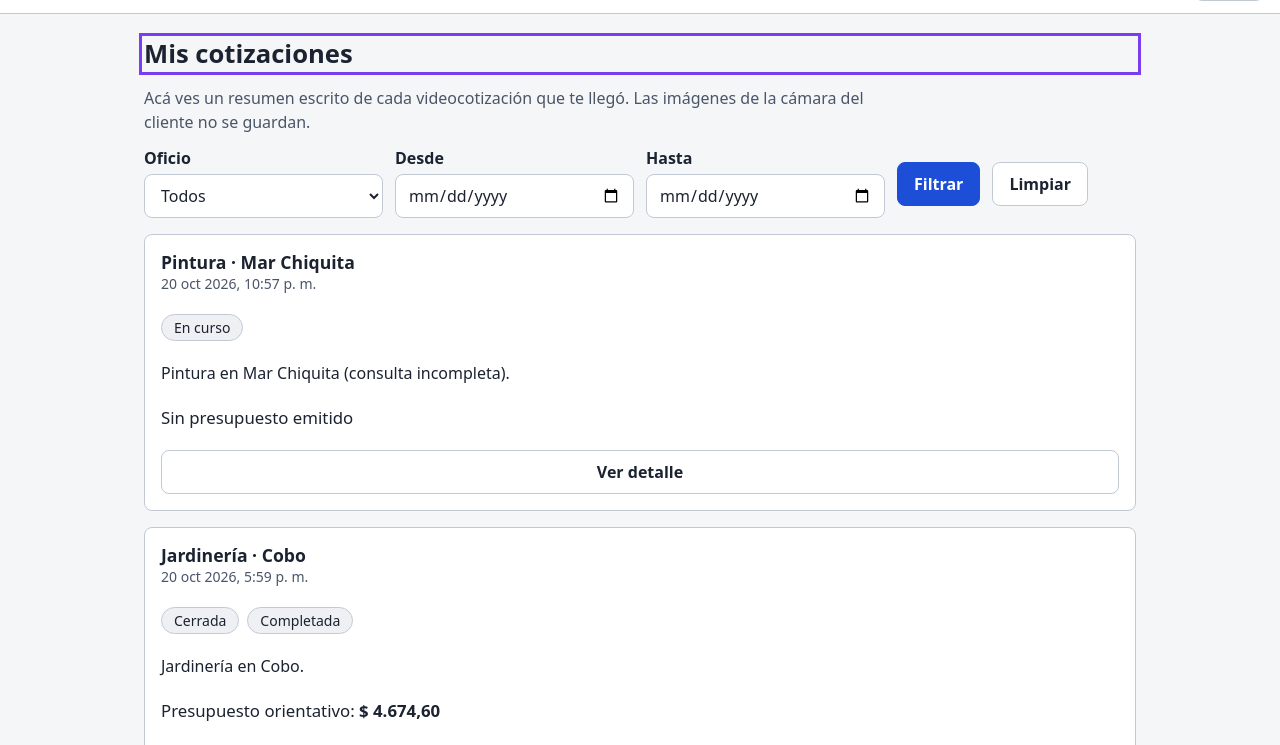
Test case: Mis cotizaciones: filtros › filtra por oficio y manda el filtro al servidor
Select "Jardinería" in the dropdown labelled "Oficio" at point(264, 196), box [144,174,383,218]
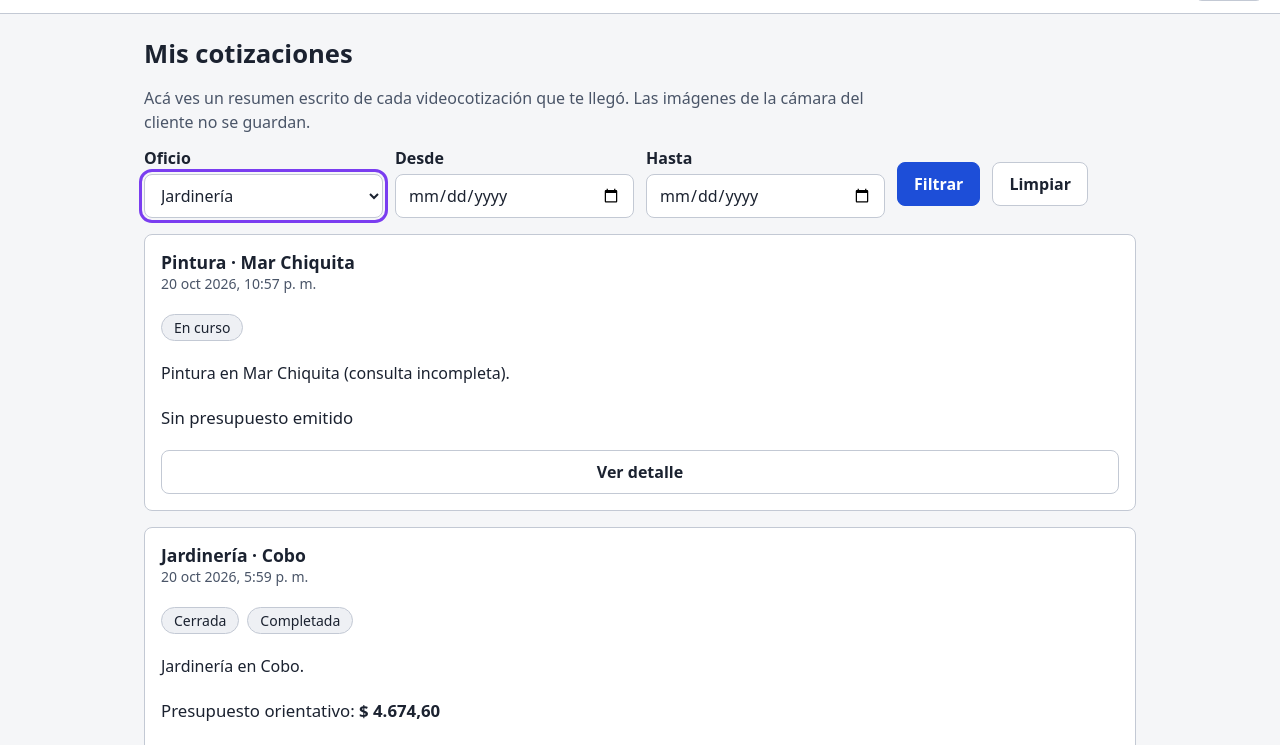
Click the button "Filtrar" at point(939, 184), box [897,162,980,206]
(page scrolled)
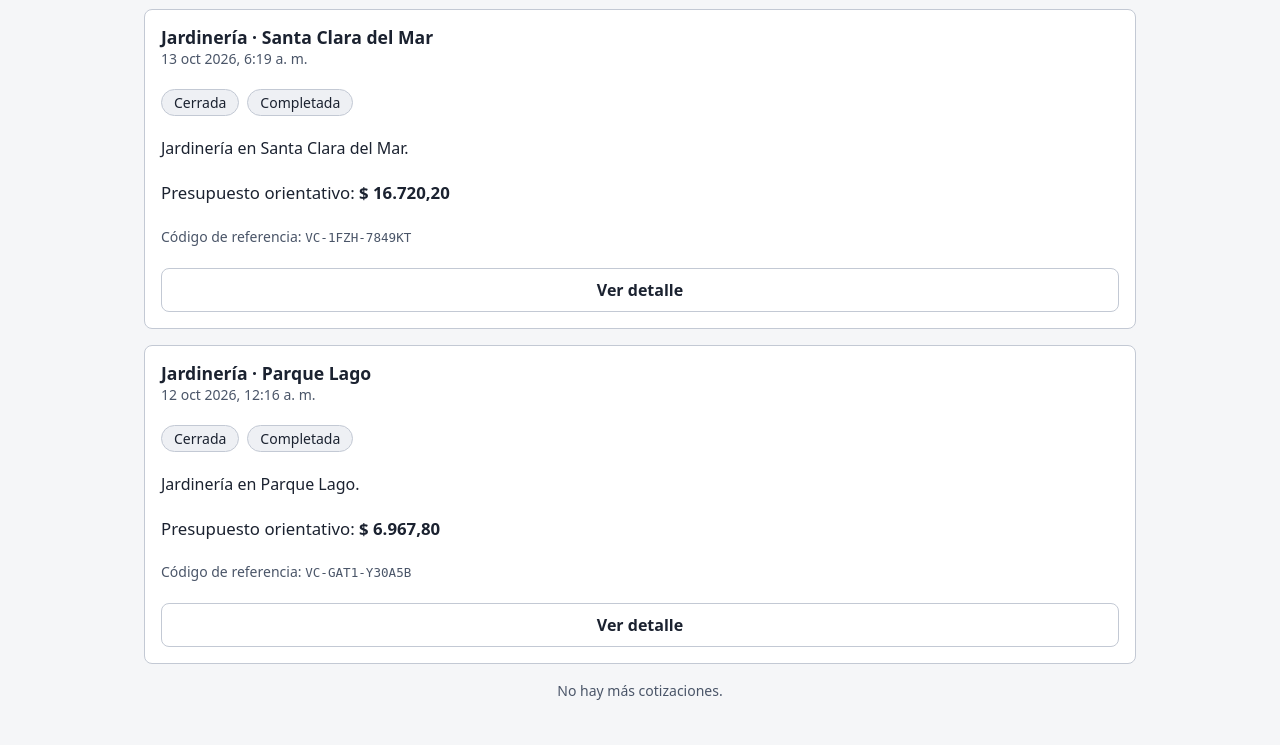
Expected: the heading "Jardinería · Santa Clara del Mar" is shown, [161,26,433,50]
Expected: the heading "Jardinería · Parque Lago" is shown, [161,360,371,384]
